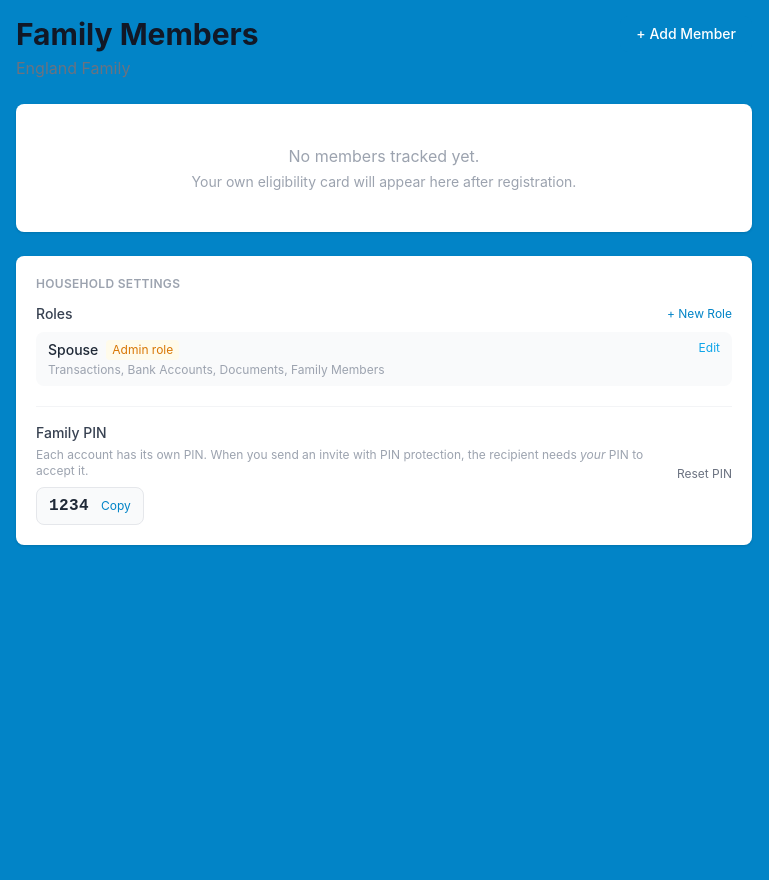
Test case: FamilyMembers page › add form shows account path options when household exists
Expected: the text "England Family" is shown, top-left (16, 58), bottom-right (130, 78)
Click the button "+ Add Member" at (686, 34), box top-left (620, 16), bottom-right (752, 52)
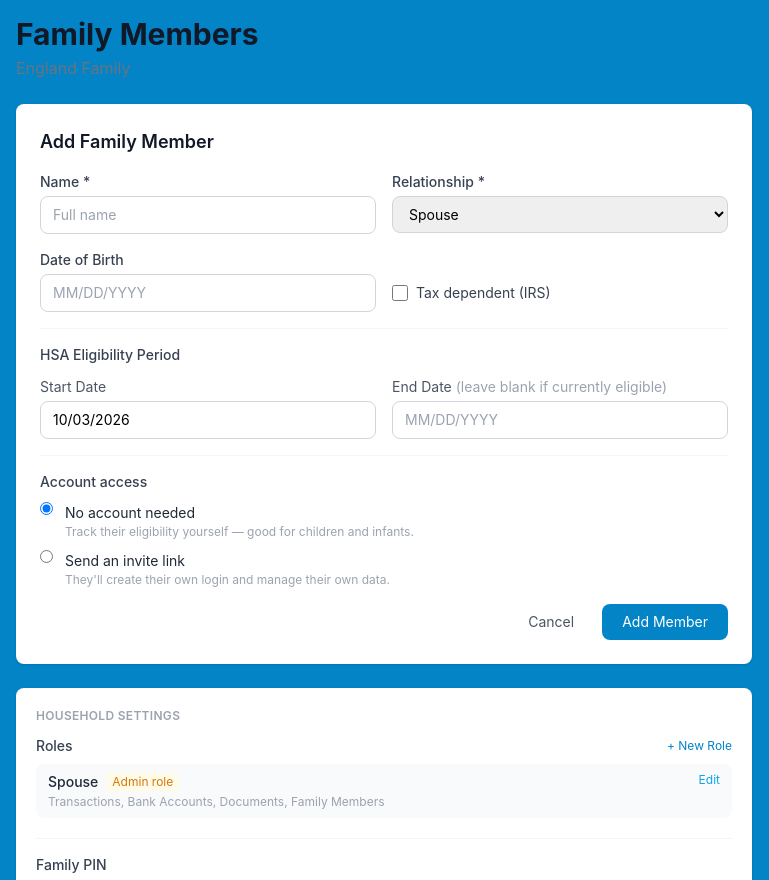
Result: the text "Account access" is shown at top-left (40, 473), bottom-right (147, 490)
Result: the text "Send an invite link" is shown at top-left (65, 552), bottom-right (185, 569)
Result: the text "No account needed" is shown at top-left (65, 504), bottom-right (195, 521)
